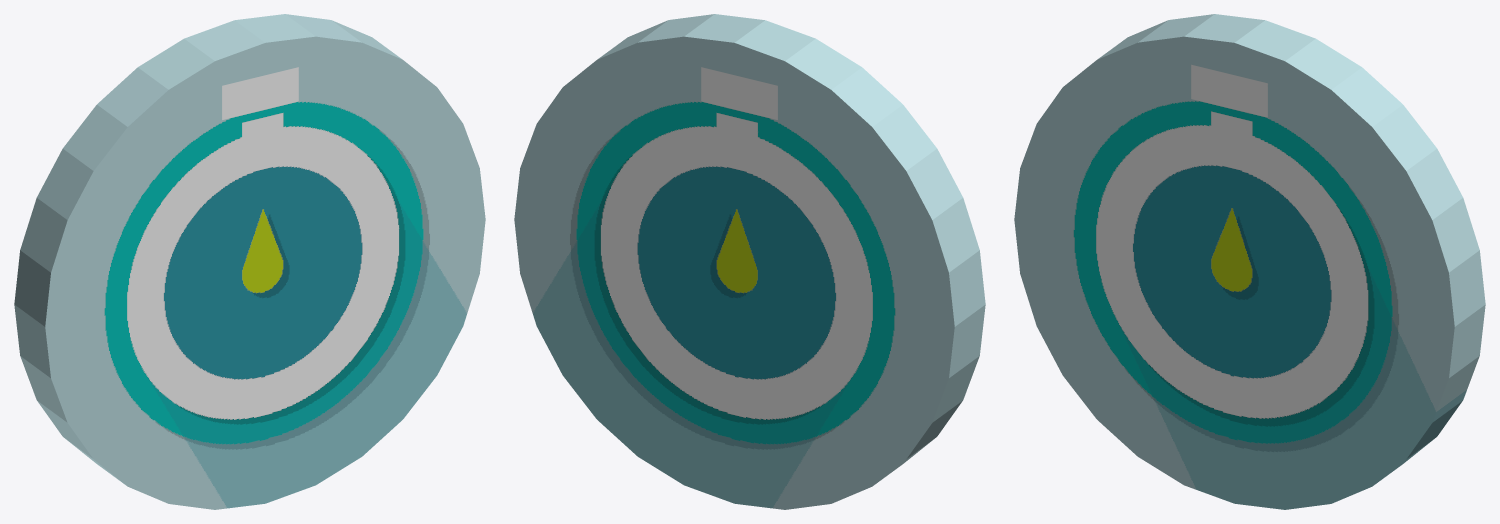
The model's file is clock.FBX.
The picture shows the model from 3 angles, left to right: view 1: azimuth 30°, elevation 25°; view 2: azimuth 150°, elevation 25°; view 3: azimuth 330°, elevation 25°; orthographic projection.
Visible parts, largest first — view 1: clock; view 2: clock; view 3: clock.
Boxes of the visible parts, <box> form: clock: <box>14,14,485,509</box>; clock: <box>514,14,985,509</box>; clock: <box>1014,14,1485,509</box>.
Bounding box in the file's own units: 36.74 × 36.74 × 4.46.
Materials: 1 (1 with a texture image).
